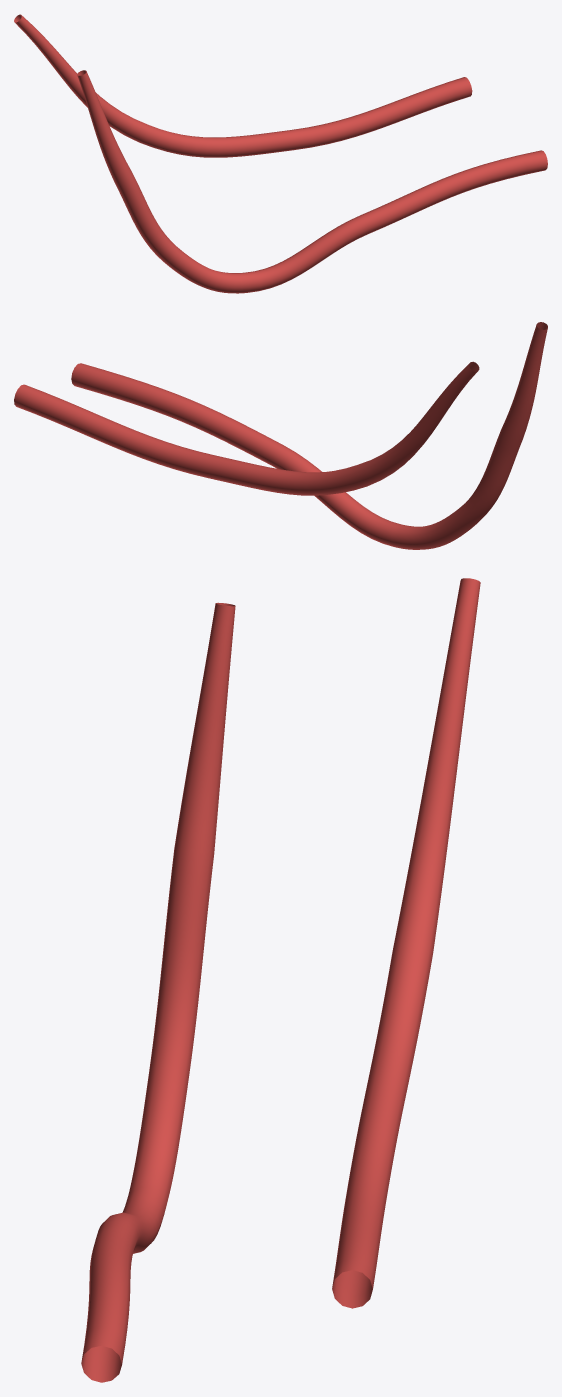
3 views of the same model, one above another, from view 1: azimuth 30°, elevation 25°; view 2: azimuth 150°, elevation 25°; view 3: azimuth 270°, elevation 25° (orthographic). The views are drawn at different scales.
Visible parts, largest first — view 1: 右侧基底动脉旁正中支; view 2: 右侧基底动脉旁正中支; view 3: 右侧基底动脉旁正中支.
Boxes of the visible parts, x1,y1,x2,y2 form: 右侧基底动脉旁正中支: (14,14,547,293); 右侧基底动脉旁正中支: (14,322,547,549); 右侧基底动脉旁正中支: (81,578,480,1382).
Size of the model in its own units: 0.0145 by 0.00804 by 0.00575.
